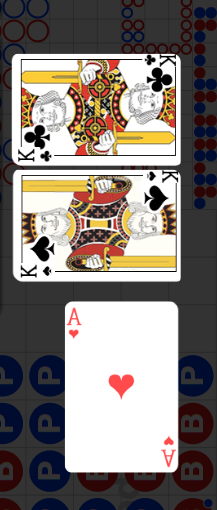AH: (159, 433, 176, 468)
KC: (16, 145, 57, 164)
KS: (19, 263, 56, 280)
